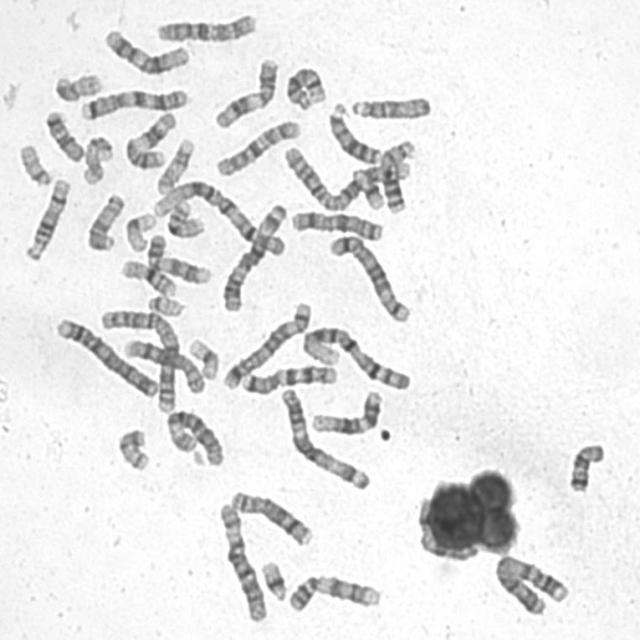A1: (150, 175, 288, 258), (297, 321, 412, 393)
A2: (94, 304, 182, 415), (278, 141, 408, 214)
A3: (276, 383, 373, 491), (218, 198, 289, 314)
B4: (51, 314, 161, 400), (491, 551, 572, 617)
B5: (217, 297, 313, 392), (326, 230, 412, 325)
C10: (212, 116, 303, 179), (152, 10, 258, 45)
C11: (210, 54, 280, 130), (120, 107, 178, 171)
C12: (100, 26, 190, 76), (308, 387, 384, 436)
C6: (214, 498, 270, 624), (162, 406, 226, 469)
C7: (76, 84, 191, 122), (237, 361, 340, 396)
C8: (118, 335, 207, 396), (226, 487, 314, 548)
C9: (284, 570, 383, 615), (143, 230, 213, 286)
D13: (326, 97, 383, 166), (376, 136, 416, 216)
D14: (21, 174, 72, 264), (282, 63, 327, 113)
D15: (346, 92, 434, 122), (83, 190, 125, 252)
E16: (116, 255, 178, 298), (162, 197, 207, 239)
E17: (152, 135, 196, 196), (78, 131, 115, 187)
E18: (41, 106, 85, 164), (565, 440, 607, 494)
F19: (121, 208, 158, 254), (185, 335, 220, 381)
F20: (51, 68, 104, 104), (114, 424, 151, 474)
G21: (349, 164, 386, 213), (256, 556, 288, 602)
G22: (15, 140, 54, 187), (144, 292, 186, 317)
X: (287, 206, 385, 243)
